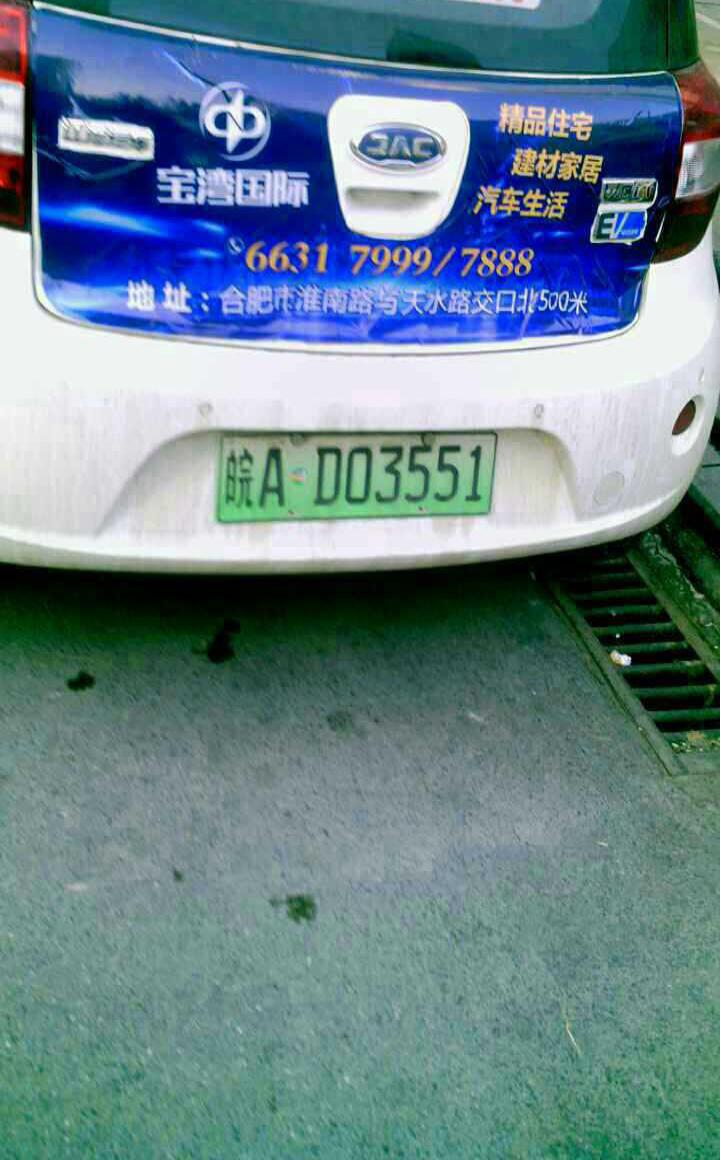car_id: (213, 430, 495, 518)
